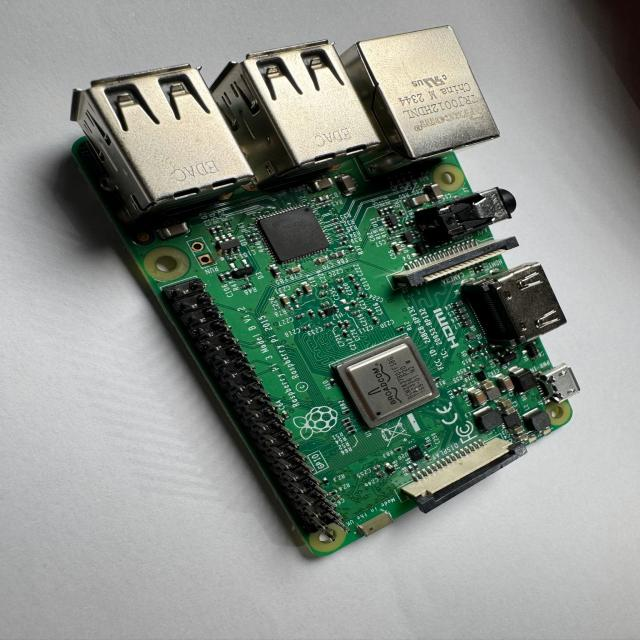CPU: (334, 336, 438, 430)
Ethernet: (342, 26, 501, 161)
GPIO: (146, 282, 345, 560)
HDMI: (484, 263, 568, 344)
RAM-3: (257, 208, 330, 265)
Raspberry: (70, 25, 580, 556)
